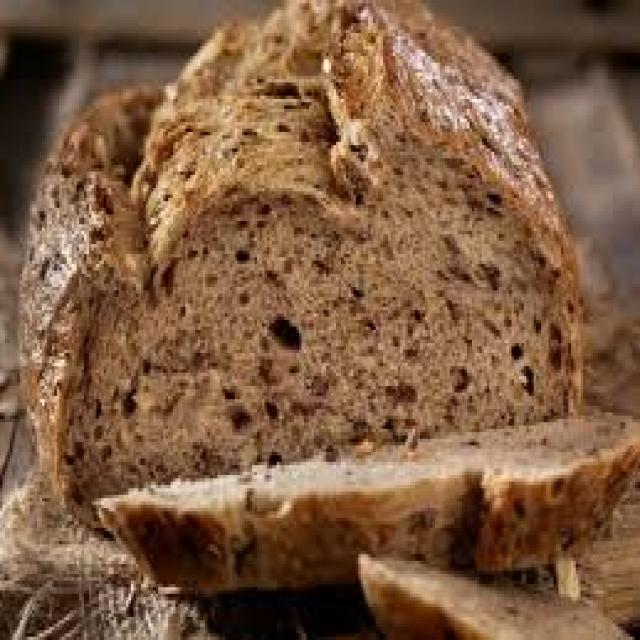Wet Waste: (15, 11, 634, 588)
